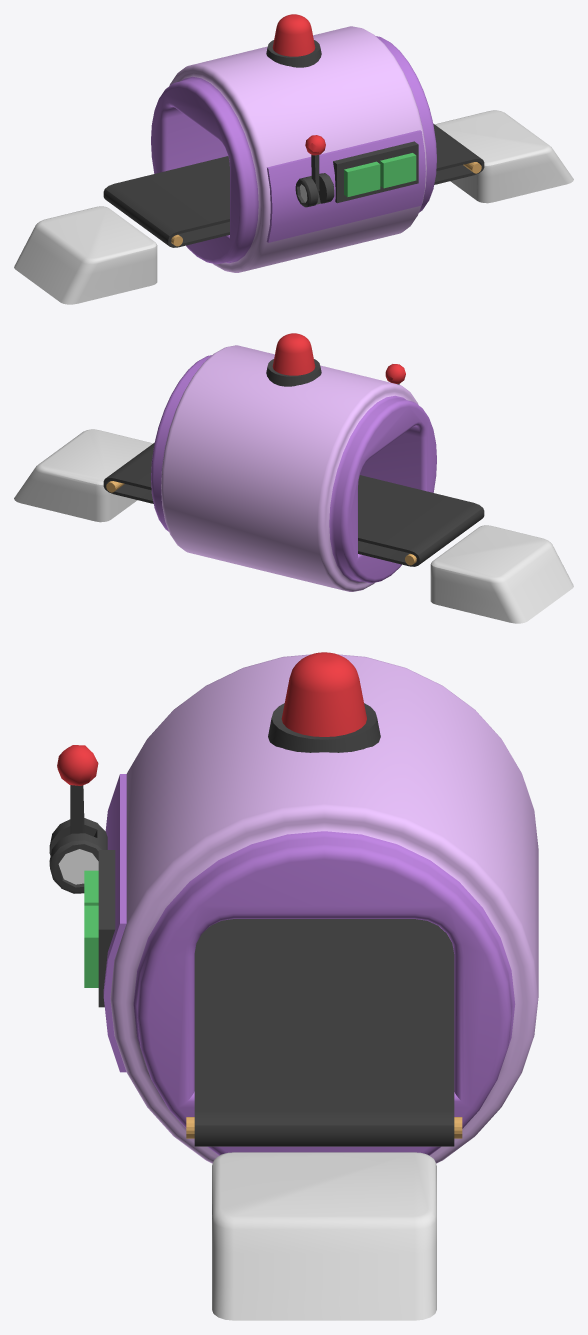
The model's file is makina3.fbx.
The picture shows the model from 3 angles, top to bottom: view 1: azimuth 30°, elevation 25°; view 2: azimuth 150°, elevation 25°; view 3: azimuth 270°, elevation 25°; orthographic projection. The views are drawn at different scales.
Parts seen in each view (by area): view 1: govde.004, stack.005, palet.001, lamba, kol.003; view 2: govde.004, stack.005, palet.001, lamba; view 3: govde.004, palet.001, stack.005, lamba, kol.003.
Part boxes in pixels (x1=…): govde.004: x1=151, y1=26, x2=436, y2=272; stack.005: x1=14, y1=110, x2=573, y2=304; palet.001: x1=103, y1=124, x2=484, y2=247; lamba: x1=266, y1=14, x2=321, y2=67; kol.003: x1=305, y1=135, x2=325, y2=191; govde.004: x1=151, y1=345, x2=436, y2=591; stack.005: x1=14, y1=429, x2=573, y2=623; palet.001: x1=103, y1=443, x2=484, y2=566; lamba: x1=266, y1=333, x2=321, y2=386; govde.004: x1=49, y1=654, x2=538, y2=1163; palet.001: x1=186, y1=919, x2=462, y2=1146; stack.005: x1=212, y1=1152, x2=436, y2=1320; lamba: x1=268, y1=652, x2=380, y2=752; kol.003: x1=57, y1=745, x2=98, y2=834.
Bounding box in the file's own units: 611 × 262 × 253.
